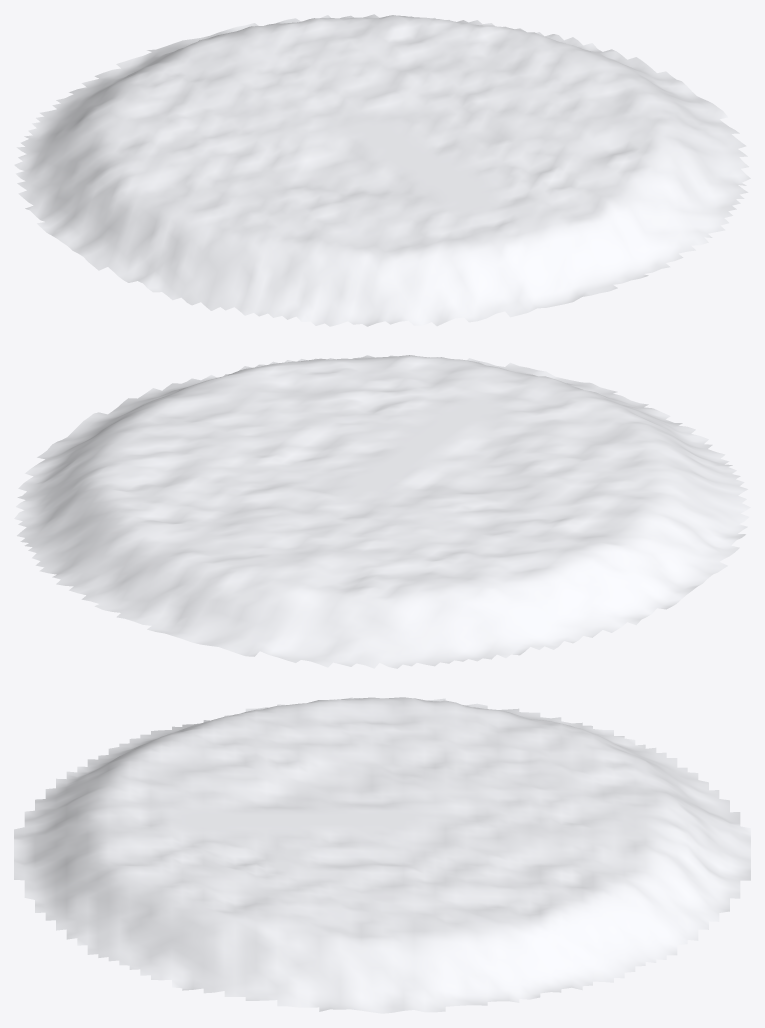
Rendered from CloudFloor.obj.
3 views of the same model, one above another, from view 1: azimuth 30°, elevation 25°; view 2: azimuth 150°, elevation 25°; view 3: azimuth 270°, elevation 25° (orthographic).
Parts seen in each view (by area): view 1: CloudFloor; view 2: CloudFloor; view 3: CloudFloor.
Part boxes in pixels (box(x1,y1,x2,y2)): CloudFloor: box(14, 14, 750, 326); CloudFloor: box(14, 355, 750, 668); CloudFloor: box(14, 697, 750, 1013).
Bounding box in the file's own units: 170 × 10.77 × 170.
Materials: 1 (1 with a texture image).
